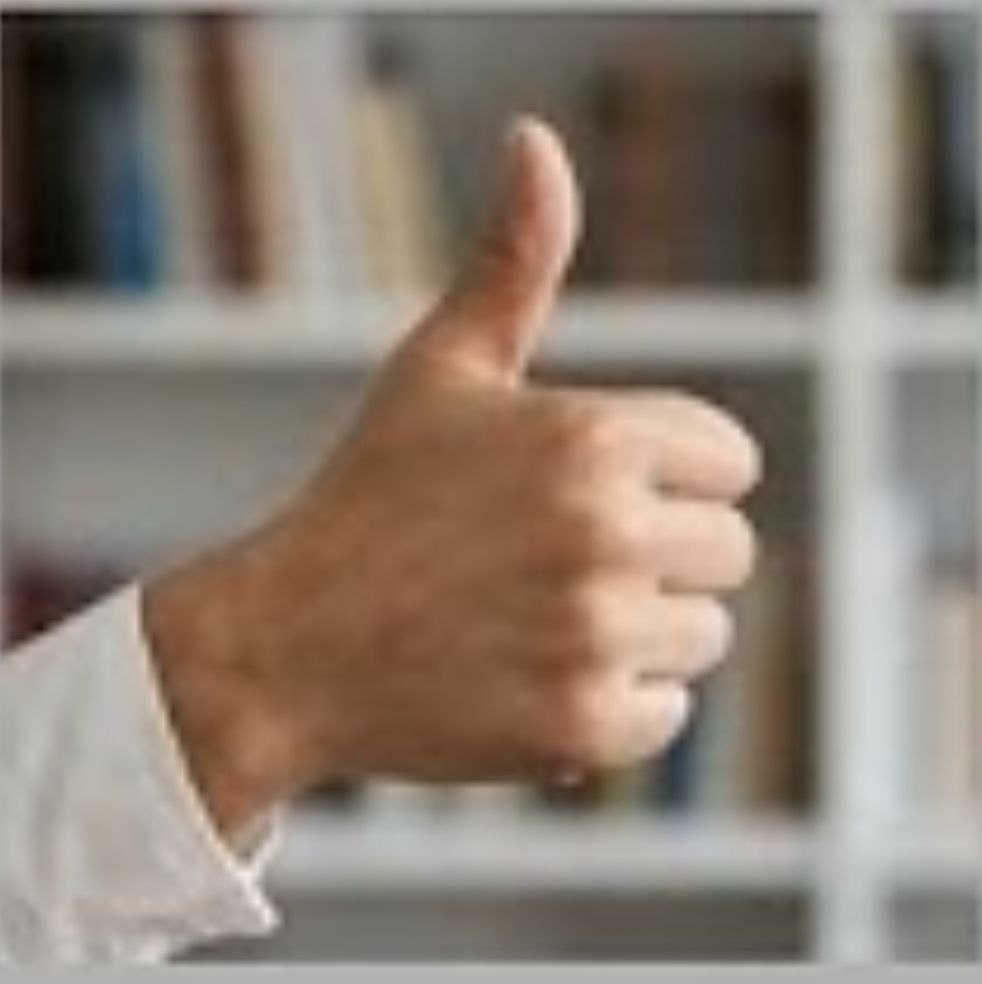Thumbs up: (299, 81, 777, 819)
